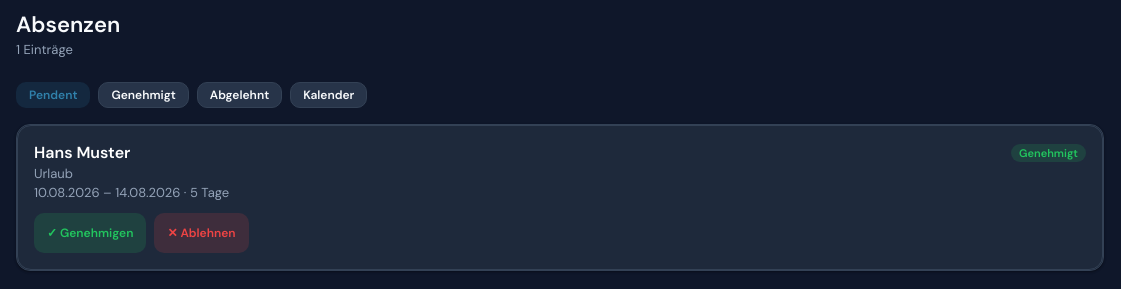
Test: AbsencesScreen — Karten auf dem Handy › zeigt Aktionen NUR im Tab «Pendent»
Expected: the text "Hans Muster" is shown, [34,142,130,163]
Expected: the button "✓ Genehmigen" is shown, [34,213,146,253]
What coordinates should you click on to do the following:
click the button "Genehmigt"
I would click on:
 (144, 95)
Its box is [98,82,189,108].
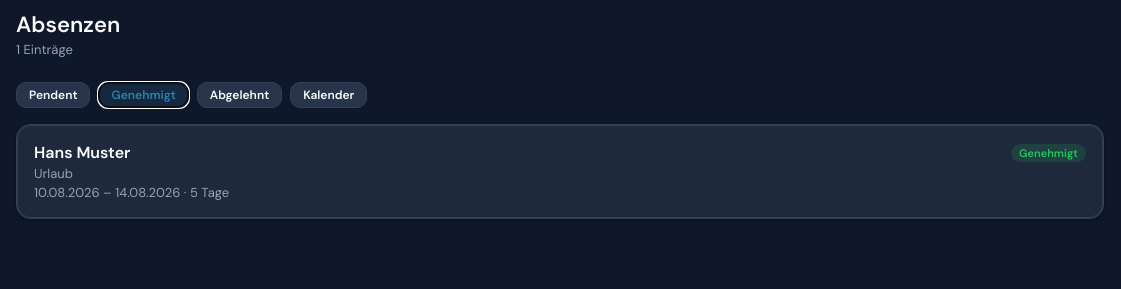
Now the button "✓ Genehmigen" is gone
Now the button "Ablehnen" is gone
